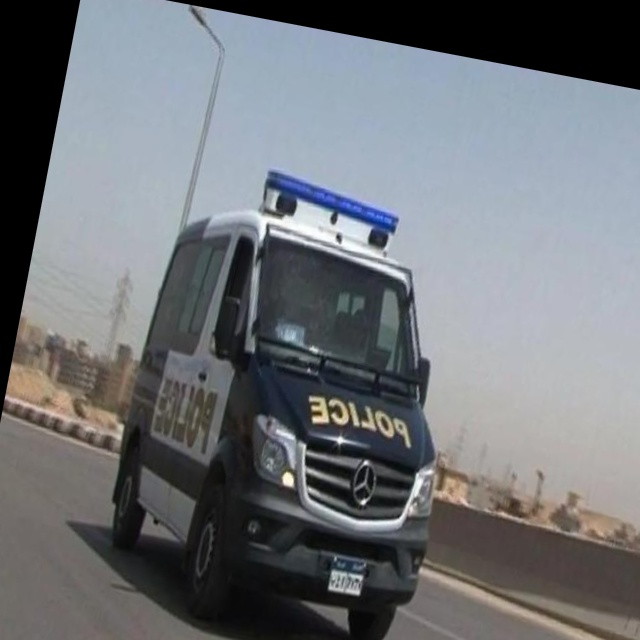police-car: (91, 149, 493, 640)
